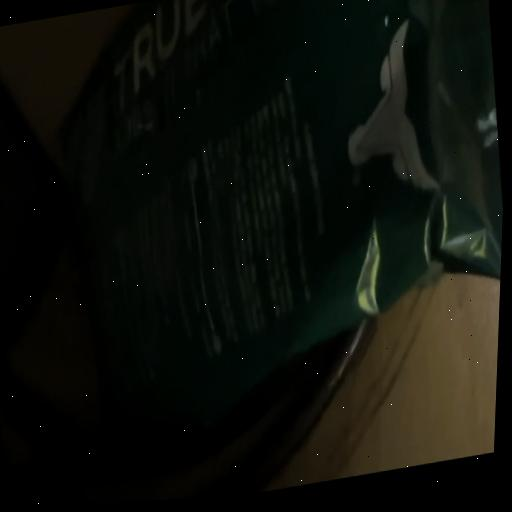cafe_xay: (63, 0, 503, 423)
